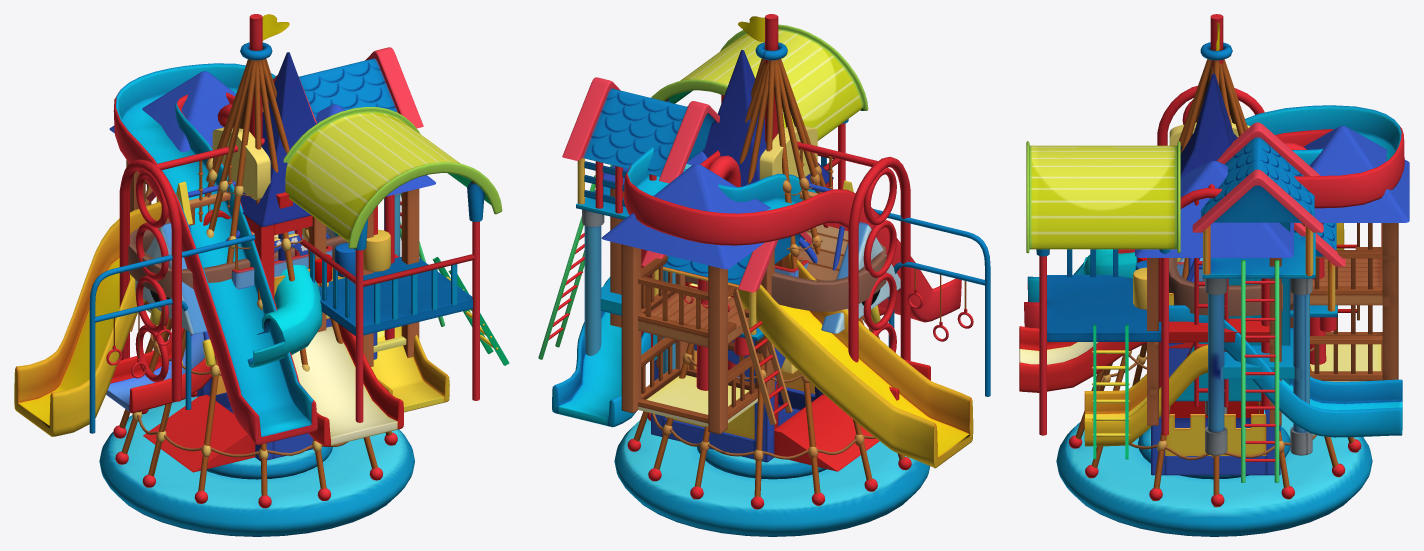
Rendered from Playground_Kid.FBX.
3 renders of one model, left to right at view 1: azimuth 30°, elevation 25°; view 2: azimuth 150°, elevation 25°; view 3: azimuth 270°, elevation 25°, orthographic.
Visible parts, largest first — view 1: Playground_Kid3, Playground_Kid9, Playground_Kid11, Playground_Kid2, Playground_Kid, Playground_Kid5, Playground_Kid10, Playground_Kid12, Playground_Kid1, Playground_Kid20, Playground_Kid7, Playground_Kid4 (+2 smaller); view 2: Playground_Kid2, Playground_Kid3, Playground_Kid5, Playground_Kid9, Playground_Kid11, Playground_Kid, Playground_Kid10, Playground_Kid1, Playground_Kid20, Playground_Kid4, Playground_Kid12, Playground_Kid7 (+1 smaller); view 3: Playground_Kid9, Playground_Kid2, Playground_Kid3, Playground_Kid5, Playground_Kid11, Playground_Kid12, Playground_Kid, Playground_Kid10, Playground_Kid1, Playground_Kid20.
Part boxes in pixels (x1,y1,x2,y2): Playground_Kid3: (99,14,414,536); Playground_Kid9: (89,107,509,433); Playground_Kid11: (113,63,338,444); Playground_Kid2: (14,47,449,436); Playground_Kid: (143,52,377,472); Playground_Kid5: (109,71,403,446); Playground_Kid10: (119,138,394,401); Playground_Kid12: (106,104,435,413); Playground_Kid1: (146,191,322,367); Playground_Kid20: (128,219,390,298); Playground_Kid7: (212,127,270,200); Playground_Kid4: (135,223,335,334); Playground_Kid2: (538,77,973,468); Playground_Kid3: (614,14,930,536); Playground_Kid5: (601,163,885,434); Playground_Kid9: (552,24,990,427); Playground_Kid11: (624,147,961,390); Playground_Kid: (651,50,879,471); Playground_Kid10: (797,141,910,362); Playground_Kid1: (641,231,811,355); Playground_Kid20: (685,243,886,311); Playground_Kid4: (797,222,900,333); Playground_Kid12: (603,106,930,400); Playground_Kid7: (759,126,817,373); Playground_Kid9: (1026,141,1402,459); Playground_Kid2: (1084,122,1344,482); Playground_Kid3: (1056,14,1372,536); Playground_Kid5: (1019,125,1409,392); Playground_Kid11: (1024,105,1404,401); Playground_Kid12: (1135,160,1293,425); Playground_Kid: (1151,73,1280,475); Playground_Kid10: (1157,86,1269,407); Playground_Kid1: (1083,223,1345,331); Playground_Kid20: (1133,257,1293,316).
Bounding box in the file's own units: 296 × 320 × 248.
